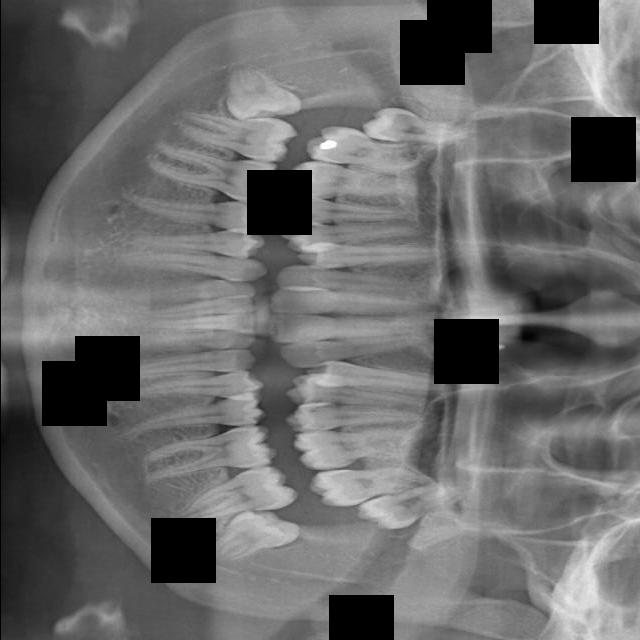3M ESPE Implant: (359, 103, 469, 148)
AGS Medikal Implant: (166, 460, 301, 529)
AMerOss Implant: (135, 422, 278, 482)
Amalgam filling: (303, 121, 440, 178)
Anthogyr Implant: (121, 394, 266, 442)
Bicon Implant: (125, 370, 264, 411)
BioHorizons Implant: (119, 348, 257, 378)
BioLife Implant: (128, 330, 255, 350)
Biomet 3i Implant: (135, 311, 257, 332)
Blue Sky Bio Implant: (140, 296, 257, 321)
Camlog Implant: (130, 277, 255, 304)
Caries: (278, 331, 432, 370)
Composite filling: (117, 243, 268, 283)
Cowellmedi Implant: (127, 230, 264, 258)
Crown: (119, 189, 264, 234)
DENTSPLY Implant: (377, 170, 406, 191)
Dentatus Implant: (143, 127, 283, 210)
Dentis Implant: (173, 107, 297, 164)
Dentium Implant: (235, 68, 249, 88)
Euroteknika Implant: (278, 197, 415, 228)
Filling: (279, 224, 421, 252)
Frontier Implant: (296, 237, 451, 272)
Hiossen Implant: (305, 358, 458, 395)
Implant: (268, 289, 441, 318)
Implant Direct: (273, 264, 434, 293)
Keystone Dental Implant: (264, 314, 429, 345)
MIS Implant: (286, 376, 424, 407)
Mandible: (285, 398, 425, 433)
Maxilla: (292, 426, 418, 471)
Megagen Implant: (305, 462, 434, 510)
Neodent Implant: (353, 477, 474, 538)
Neoss Implant: (219, 556, 223, 559)
